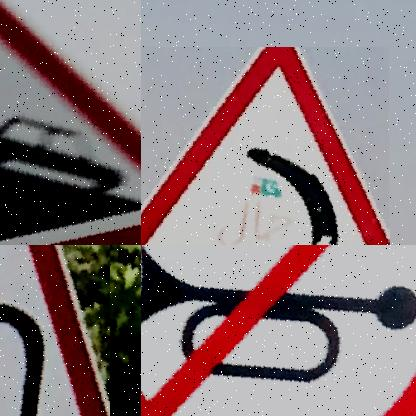Left bend: (141, 47, 388, 245)
No Horns: (141, 245, 416, 416)
Steep Descent: (0, 10, 141, 245)
